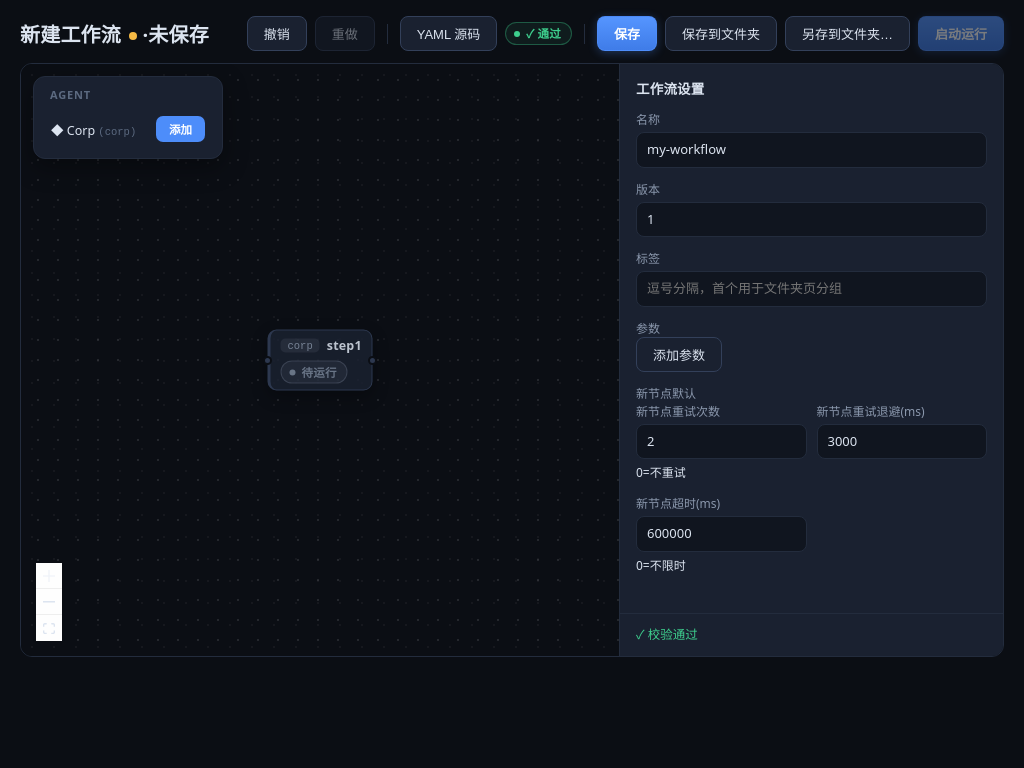
Test: WorkflowDetail：工具栏 › 撤销空历史禁用，编辑后启用；撤销后重做启用
Check: the button "撤销" is enabled, box [247, 16, 307, 51]
Check: the button "重做" is disabled, box [315, 16, 375, 51]
Click the button with test id "palette-add-corp" at (180, 129), box [156, 116, 205, 142]
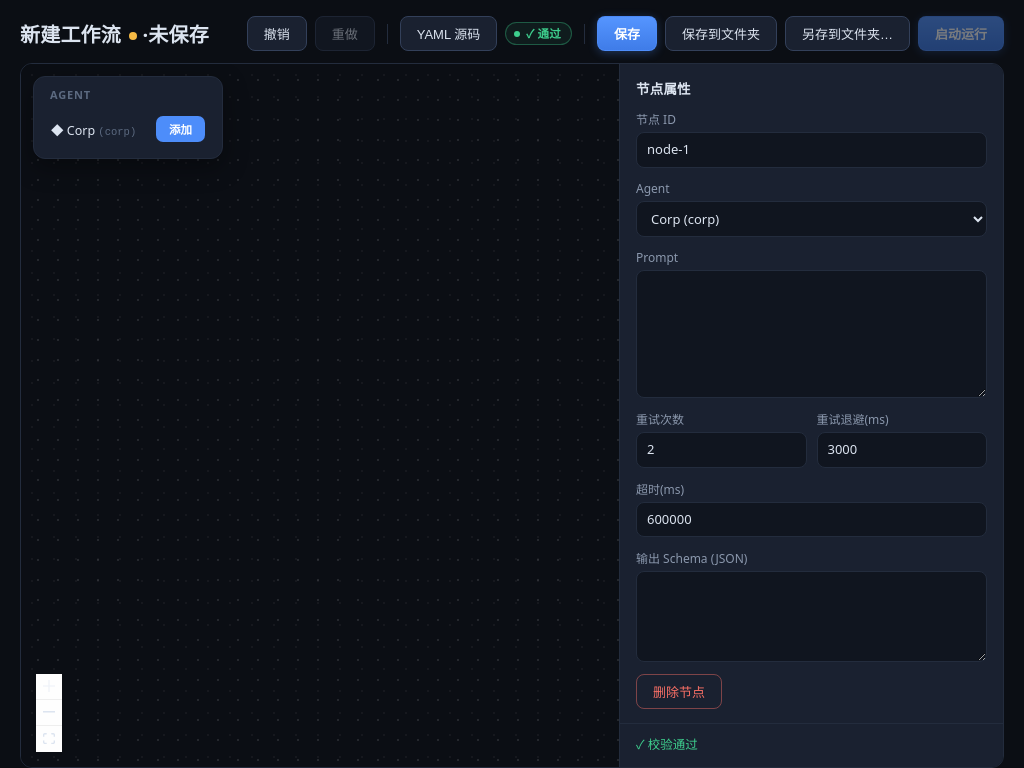
Click the button "撤销" at (277, 34), box [247, 16, 307, 51]
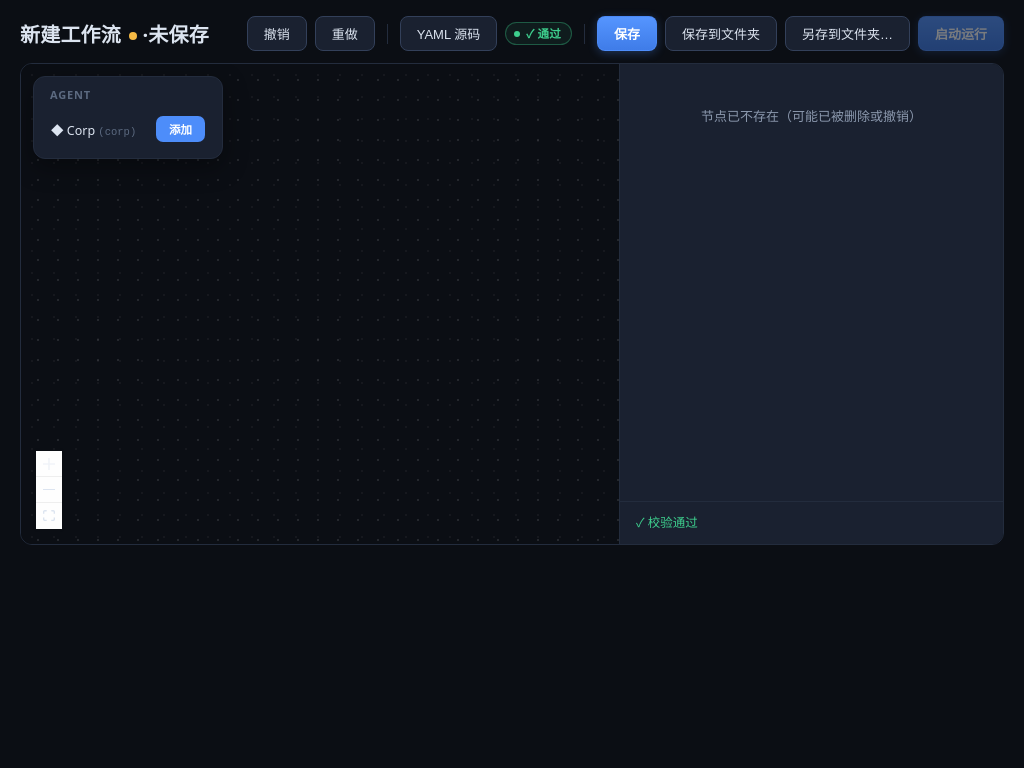
Click the button "撤销" at (277, 34), box [247, 16, 307, 51]
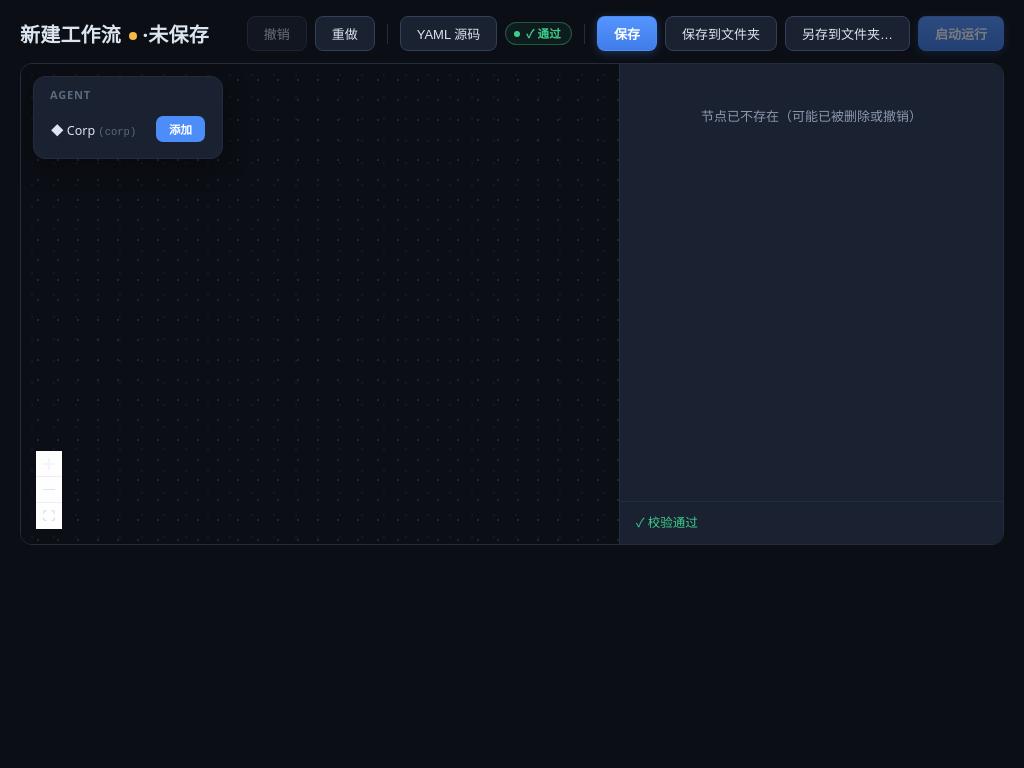
Check: the button "重做" is enabled, box [315, 16, 375, 51]
Check: the button "撤销" is disabled, box [247, 16, 307, 51]
